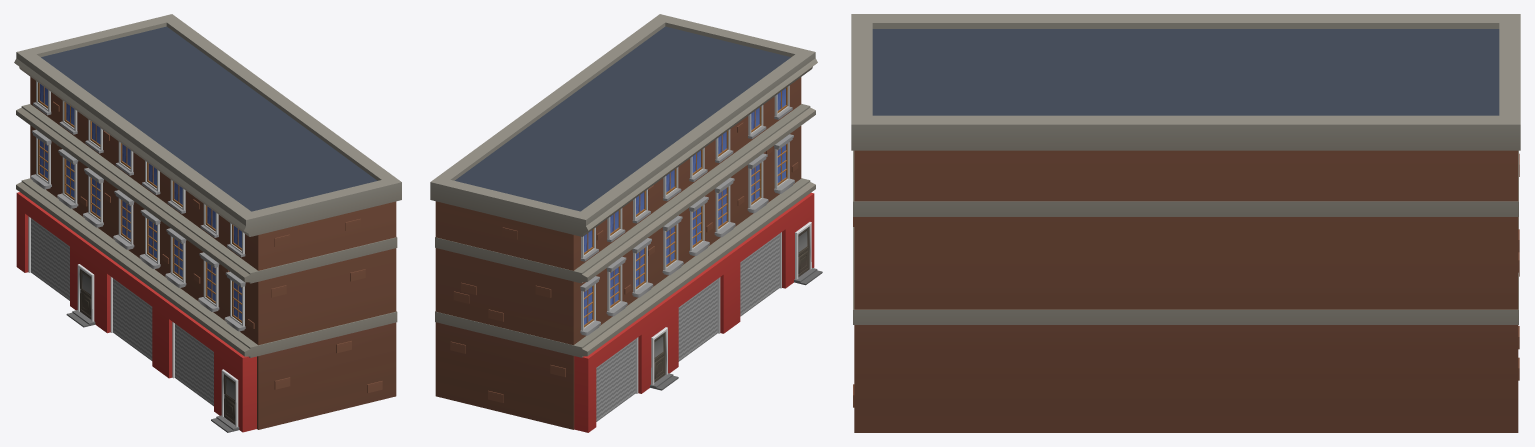
Rendered from Building_20_2_I.glb.
3 views of the same model, side by side, from view 1: azimuth 30°, elevation 25°; view 2: azimuth 150°, elevation 25°; view 3: azimuth 270°, elevation 25° (orthographic). The views are drawn at different scales.
Visible parts, largest first — view 1: Building_20_2_I; view 2: Building_20_2_I; view 3: Building_20_2_I.
Part boxes in pixels (left/top/right/bottom): Building_20_2_I: left=14, top=14, right=401, bottom=432; Building_20_2_I: left=430, top=14, right=822, bottom=432; Building_20_2_I: left=851, top=14, right=1520, bottom=432.
Bounding box in the file's own units: 7.74 × 9.38 × 18.27.
4 materials, 4 textured.
